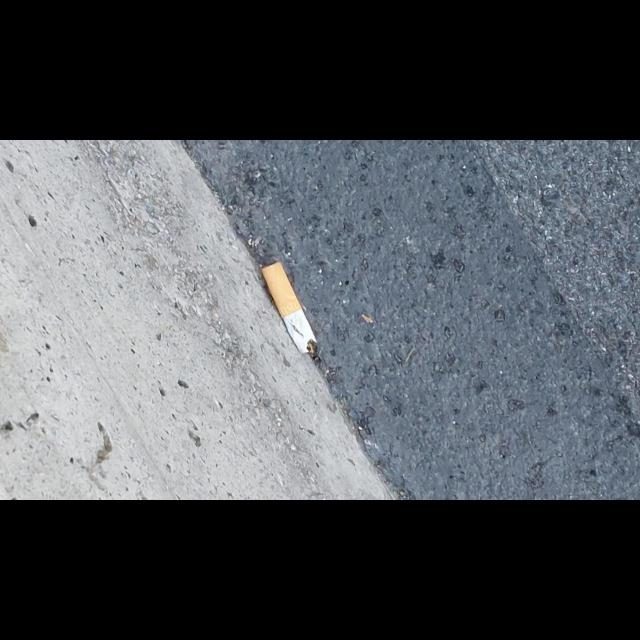cigarette: (261, 260, 319, 362)
